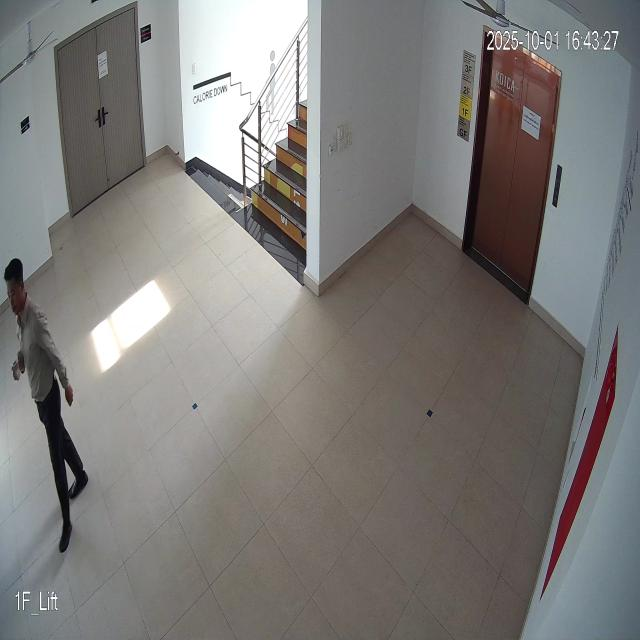face: (0, 255, 32, 318)
